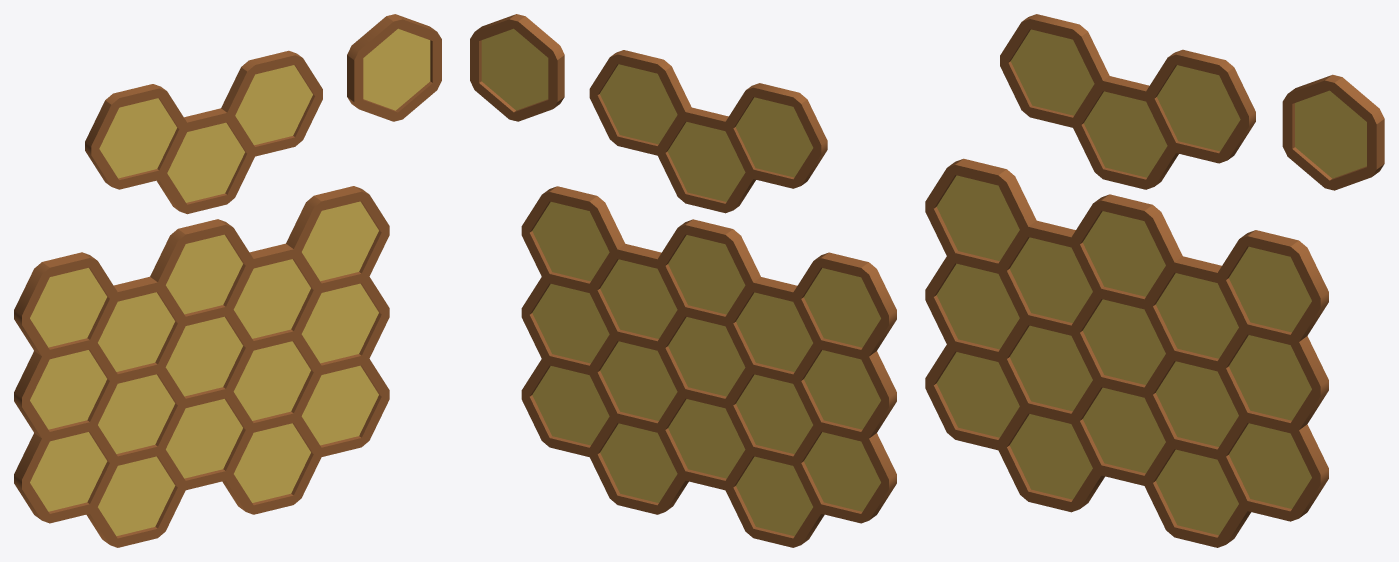
The model's file is honey combs.fbx.
3 renders of one model, left to right at view 1: azimuth 30°, elevation 25°; view 2: azimuth 150°, elevation 25°; view 3: azimuth 330°, elevation 25°, orthographic. The views are drawn at different scales.
Parts seen in each view (by area): view 1: HoneyComb.005, HoneyComb.003, HoneyComb.006; view 2: HoneyComb.005, HoneyComb.003, HoneyComb.006; view 3: HoneyComb.005, HoneyComb.003, HoneyComb.006.
Boxes of the visible parts, left/top/right/bottom form: HoneyComb.005: left=14, top=186, right=389, bottom=547; HoneyComb.003: left=85, top=50, right=322, bottom=214; HoneyComb.006: left=347, top=14, right=441, bottom=121; HoneyComb.005: left=521, top=186, right=896, bottom=547; HoneyComb.003: left=589, top=50, right=827, bottom=213; HoneyComb.006: left=470, top=14, right=564, bottom=121; HoneyComb.005: left=925, top=158, right=1328, bottom=547; HoneyComb.003: left=1000, top=14, right=1255, bottom=189; HoneyComb.006: left=1282, top=74, right=1384, bottom=190.
Size of the model in its own units: 463 by 484 by 15.
